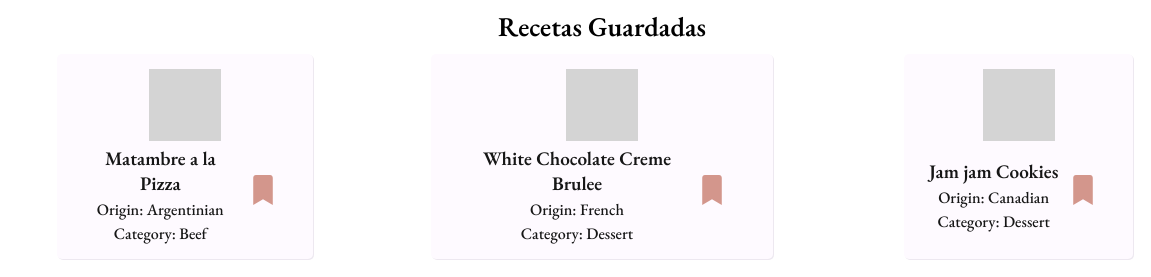
Tests for Saved Recipes component › should remove a item from list when clicked
The image size is (1151, 277).
Click the button named "favoritos" next to "Argentinian".
click(263, 192)  # box x1=248 y1=175 x2=278 y2=209
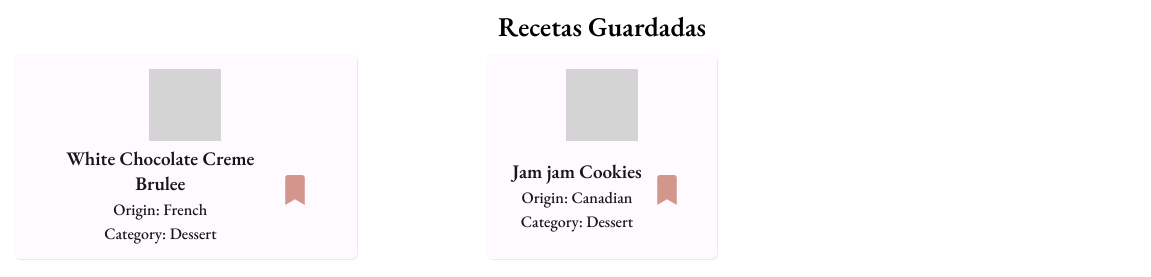
Result: the link "Matambre a la Pizza" is gone
